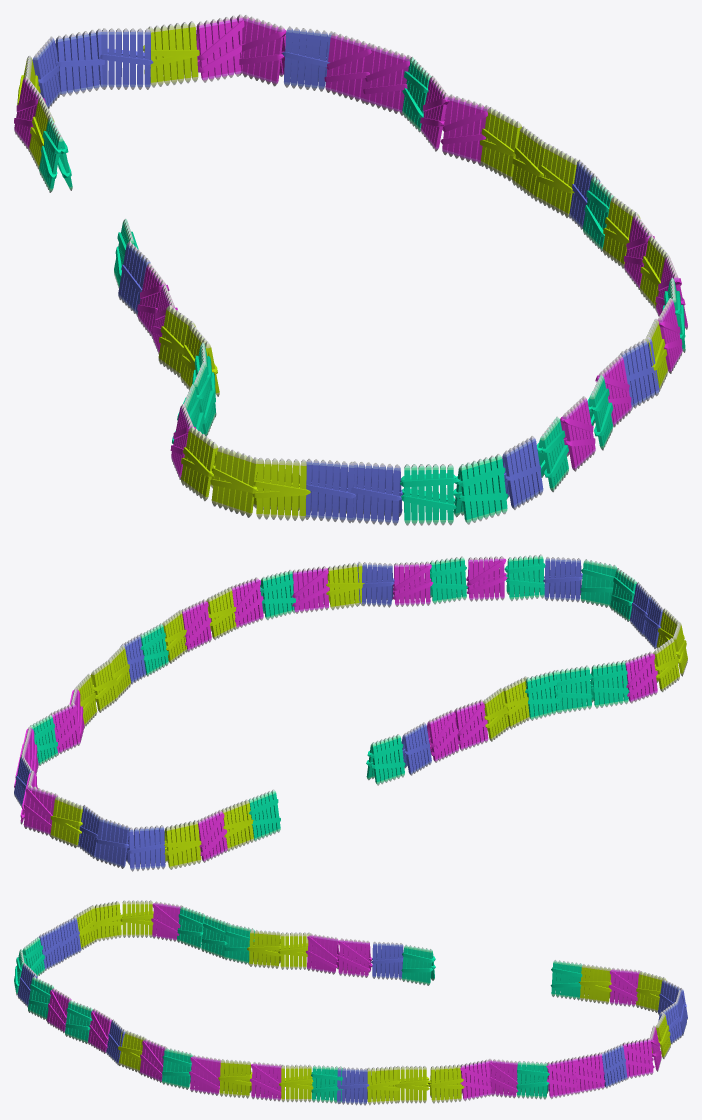
Rendered from bunchoffences.fbx.
The picture shows the model from 3 angles, top to bottom: view 1: azimuth 30°, elevation 25°; view 2: azimuth 150°, elevation 25°; view 3: azimuth 270°, elevation 25°; orthographic projection. The views are drawn at different scales.
Parts seen in each view (by area): view 1: fence type 1.013; view 2: fence type 1.013; view 3: fence type 1.013.
Boxes of the visible parts, x1,y1,x2,y2 form: fence type 1.013: (14, 14, 687, 525); fence type 1.013: (14, 554, 687, 871); fence type 1.013: (14, 900, 687, 1105).
Bounding box in the file's own units: 34.52 × 3.21 × 56.55.
